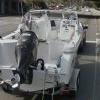Boat: (0, 3, 89, 99)
